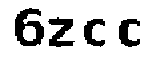6: (10, 4, 46, 50)
c: (115, 17, 147, 52), (81, 18, 110, 52)
z: (45, 15, 78, 49)
